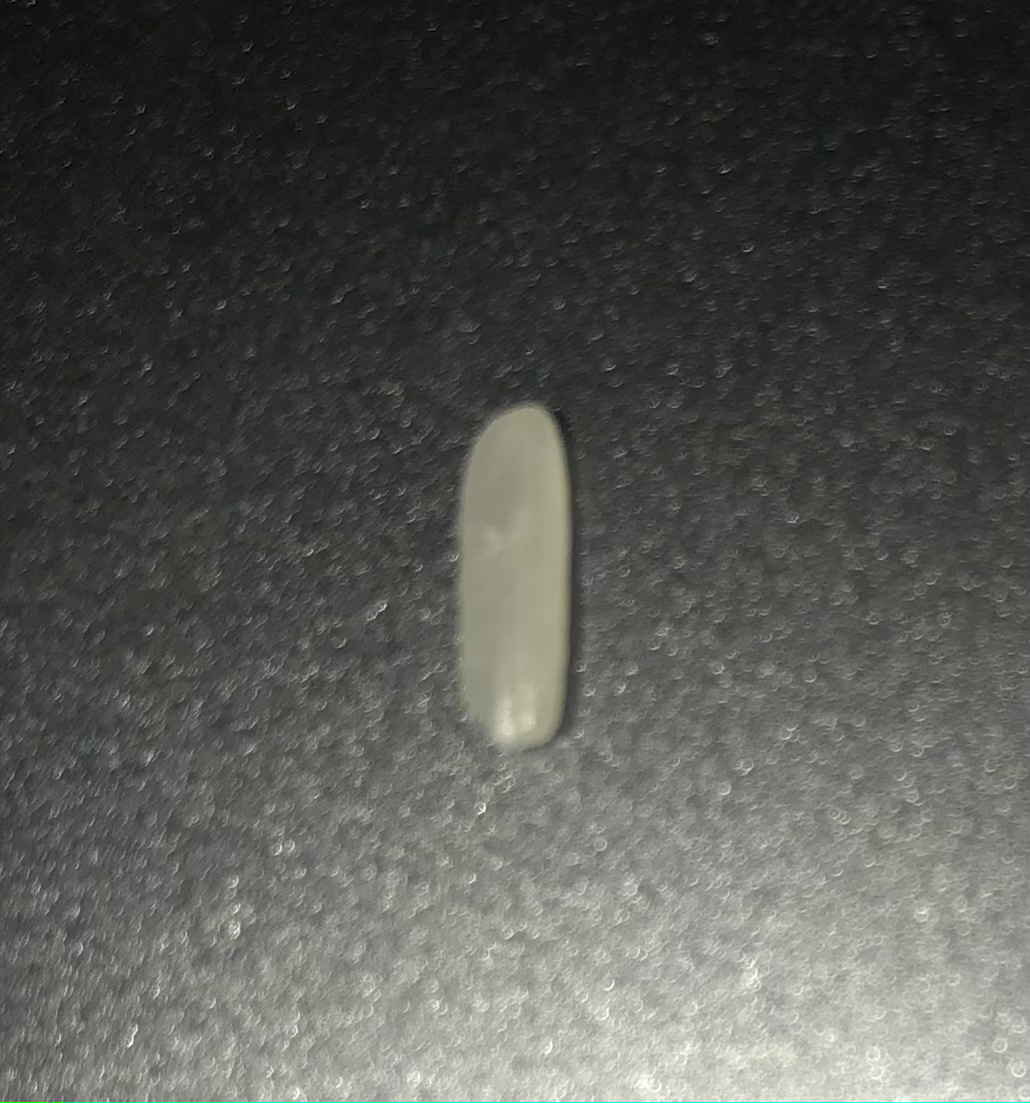Gao Thom My: (414, 381, 615, 767)
